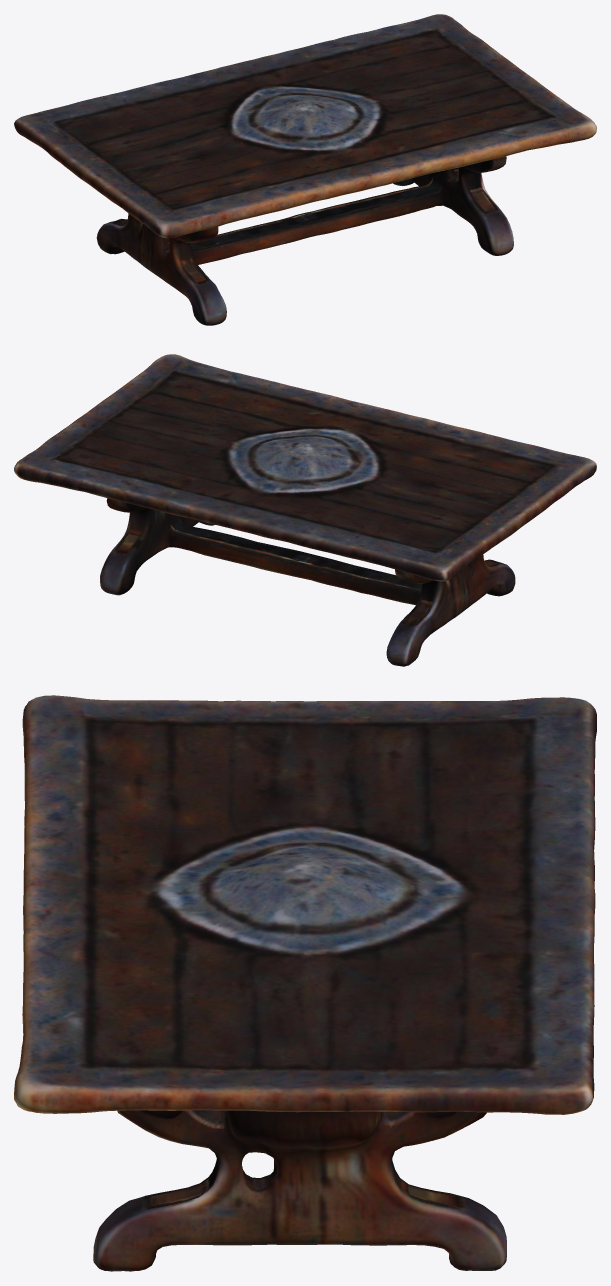
File: Table 1.fbx
3 views of the same model, one above another, from view 1: azimuth 30°, elevation 25°; view 2: azimuth 150°, elevation 25°; view 3: azimuth 270°, elevation 25° (orthographic). The views are drawn at different scales.
Visible parts, largest first — view 1: mesh; view 2: mesh; view 3: mesh.
Part boxes in pixels (x1,y1,x2,y2): mesh: (14,14,596,325); mesh: (14,354,596,666); mesh: (14,695,596,1271).
Bounding box in the file's own units: 99.94 × 31.52 × 61.69.
